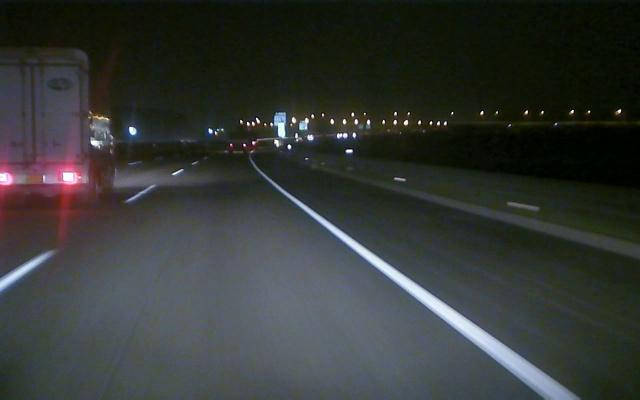lane: (260, 172, 578, 396), (2, 183, 158, 291)
